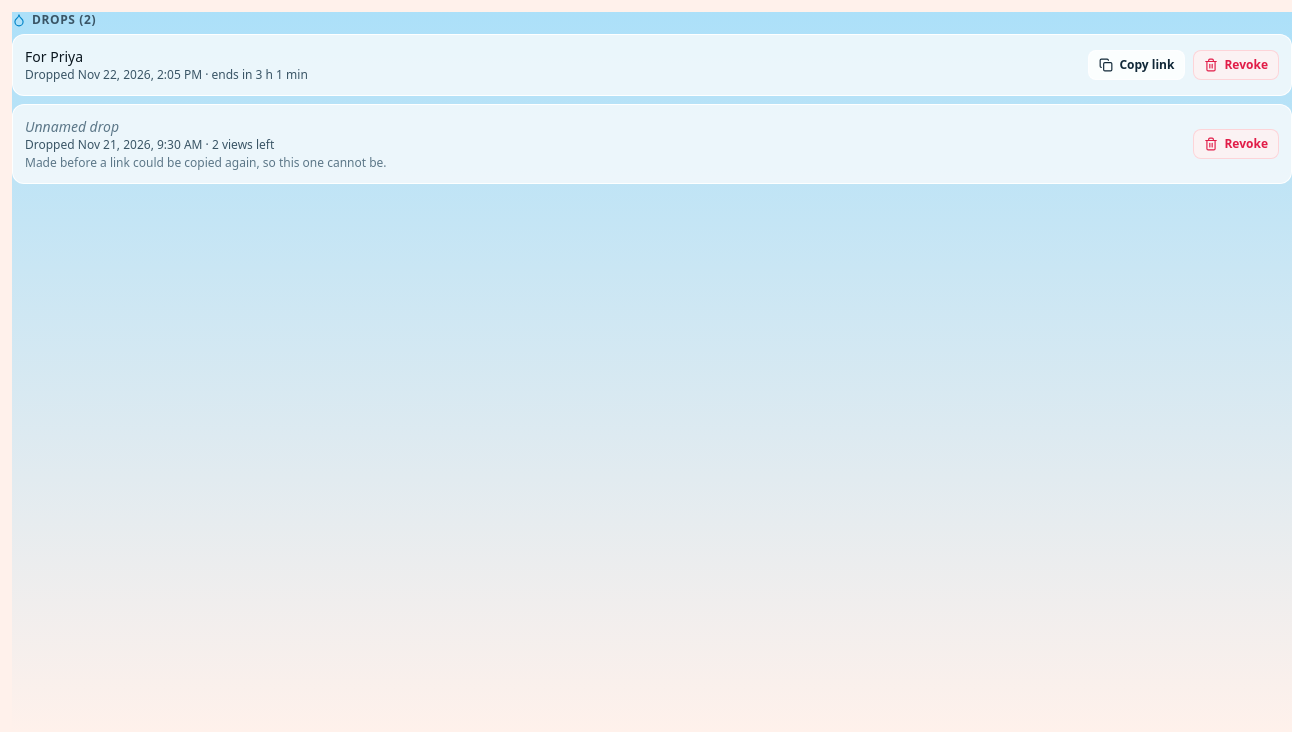
Scenario: SharedLinks › copying a live link again › copies the whole link (this address, the drop and its key) from a link that has its key
Click the button "Copy link" at (1137, 65), box [1088, 50, 1185, 80]
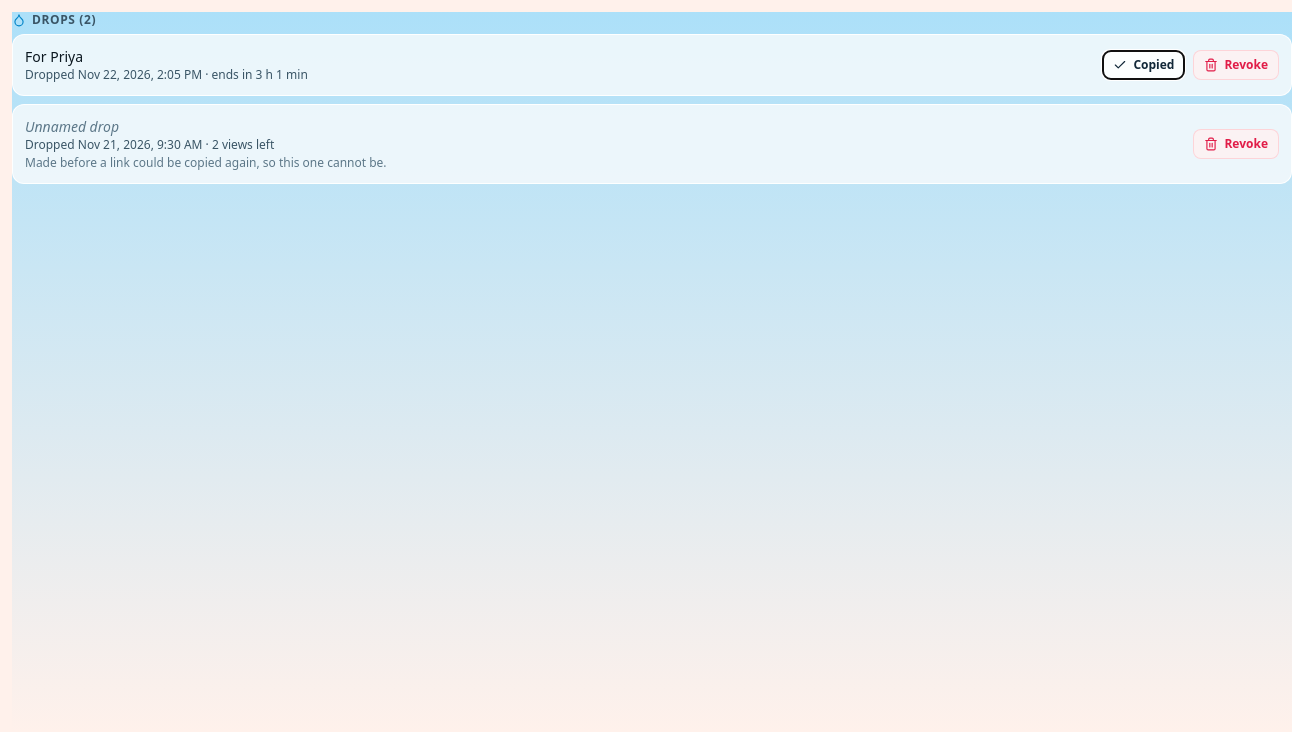
Now the button "Copied" is shown, box [1102, 50, 1185, 80]
